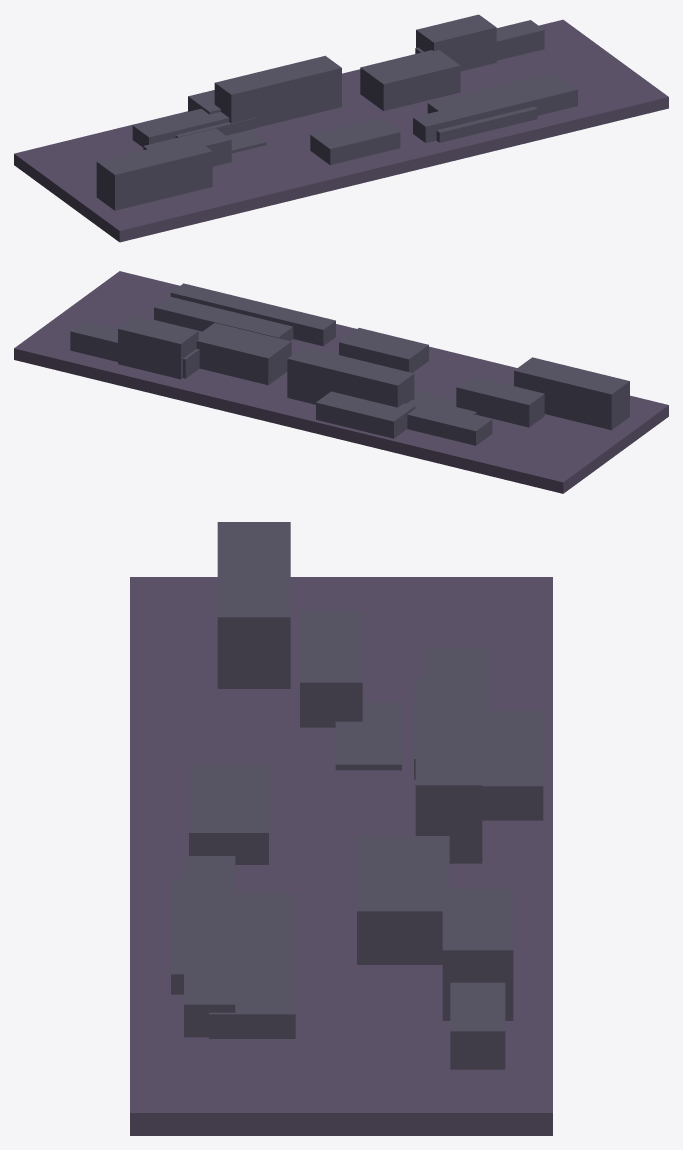
The model's file is UtilityBarricadeRubble.glb.
The picture shows the model from 3 angles, top to bottom: view 1: azimuth 30°, elevation 25°; view 2: azimuth 150°, elevation 25°; view 3: azimuth 270°, elevation 25°; orthographic projection. The views are drawn at different scales.
Visible parts, largest first — view 1: rough-ground, fragment-13, fragment-7, fragment-3, fragment-4, fragment-9, fragment-11, fragment-1, fragment-6, fragment-10, fragment-2, fragment-12 (+3 smaller); view 2: rough-ground, fragment-7, fragment-13, fragment-3, fragment-9, fragment-4, fragment-12, fragment-0, fragment-10, fragment-11, fragment-1, fragment-6 (+1 smaller); view 3: rough-ground, fragment-7, fragment-13, fragment-3, fragment-10, fragment-4, fragment-11, fragment-9, fragment-12, fragment-0, fragment-6, fragment-8 (+2 smaller).
Boxes of the visible parts, x1,y1,x2,y2 form: rough-ground: [14, 19, 668, 242]; fragment-13: [214, 55, 341, 127]; fragment-7: [96, 138, 212, 210]; fragment-3: [360, 50, 460, 111]; fragment-4: [413, 80, 577, 142]; fragment-9: [416, 14, 496, 71]; fragment-11: [310, 117, 400, 165]; fragment-1: [132, 108, 229, 147]; fragment-6: [415, 20, 544, 60]; fragment-10: [427, 73, 562, 113]; fragment-2: [436, 106, 537, 142]; fragment-12: [143, 128, 231, 166]; rough-ground: [14, 271, 668, 493]; fragment-7: [514, 357, 629, 430]; fragment-13: [287, 346, 414, 407]; fragment-3: [196, 323, 291, 385]; fragment-9: [118, 316, 198, 379]; fragment-4: [170, 283, 335, 346]; fragment-12: [456, 376, 544, 427]; fragment-0: [316, 391, 415, 438]; fragment-10: [154, 295, 293, 340]; fragment-11: [339, 328, 428, 372]; fragment-1: [407, 399, 492, 445]; fragment-6: [70, 321, 199, 378]; rough-ground: [130, 577, 552, 1135]; fragment-7: [217, 522, 290, 688]; fragment-13: [415, 677, 482, 863]; fragment-3: [357, 836, 449, 964]; fragment-10: [209, 893, 295, 1038]; fragment-4: [184, 856, 235, 1037]; fragment-11: [189, 764, 268, 864]; fragment-9: [442, 889, 513, 1020]; fragment-12: [300, 611, 362, 727]; fragment-0: [482, 710, 543, 820]; fragment-6: [450, 982, 505, 1069]; fragment-8: [335, 702, 401, 770].
Size of the model in its own units: 3 by 0.2644 by 1.
